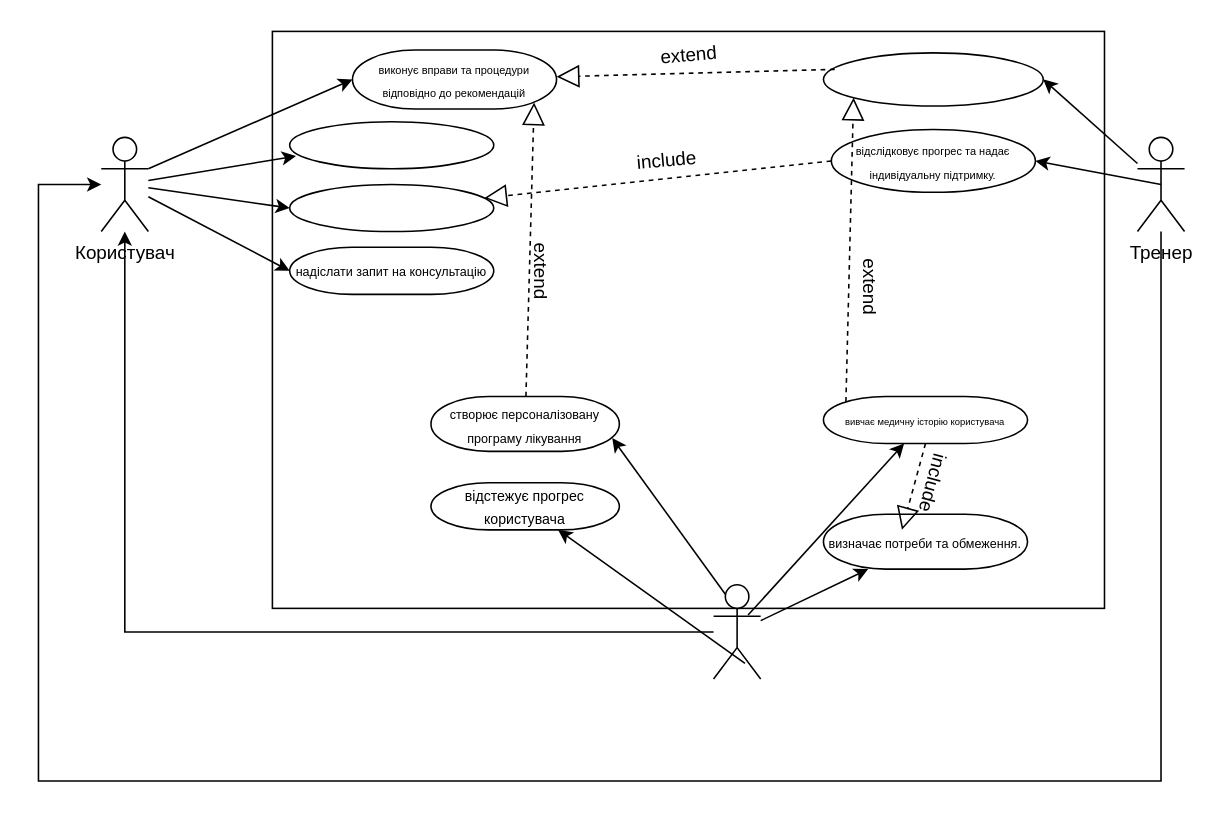
Some shapes in this 1220 by 821 pixel diagram are drawn without their labels. The centre of each missing label's shape, as x and y in pixels:
надає поради щодо тренувань та харчування.: [932,78]
обирає тип тренування: [391,144]
слідкує за своїм прогресом: [391,207]
Фізіотерапевт: [736,631]
